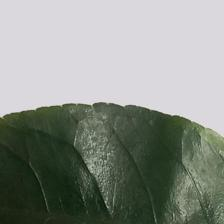healthy: (6, 117, 218, 205)
